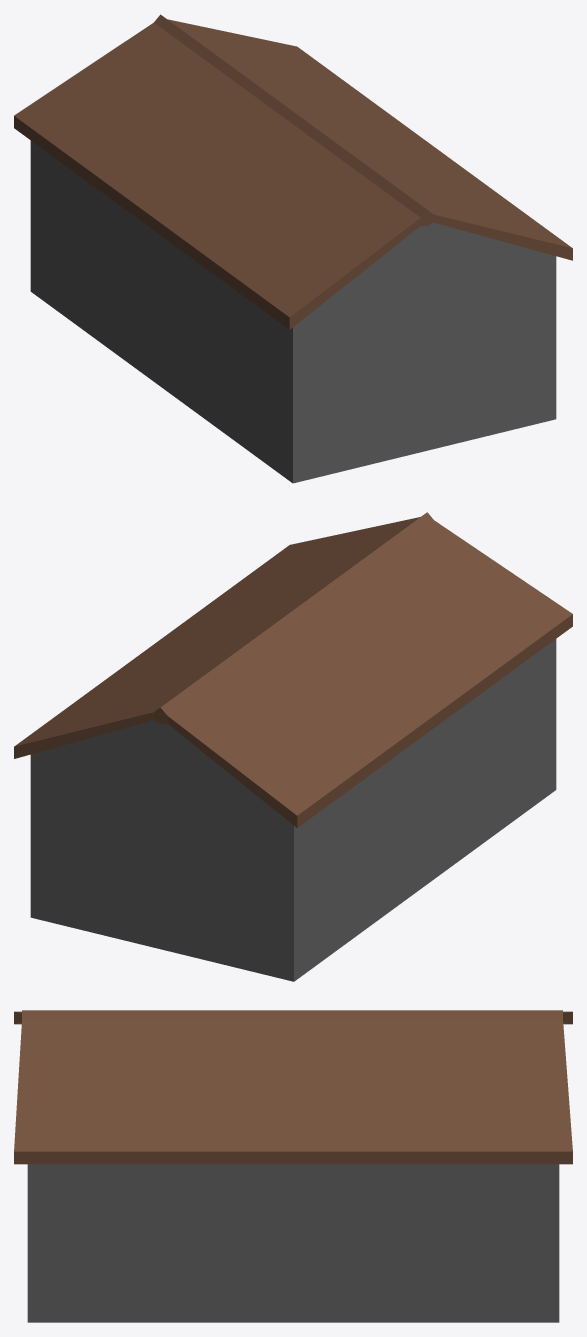
The model's file is Room03.fbx.
The picture shows the model from 3 angles, top to bottom: view 1: azimuth 30°, elevation 25°; view 2: azimuth 150°, elevation 25°; view 3: azimuth 270°, elevation 25°; orthographic projection.
Visible parts, largest first — view 1: Room03; view 2: Room03; view 3: Room03.
Part boxes in pixels (x1,y1,x2,y2): Room03: [14, 14, 572, 483]; Room03: [14, 512, 572, 981]; Room03: [14, 1010, 572, 1322].
Size of the model in its own units: 430 by 354 by 726.
